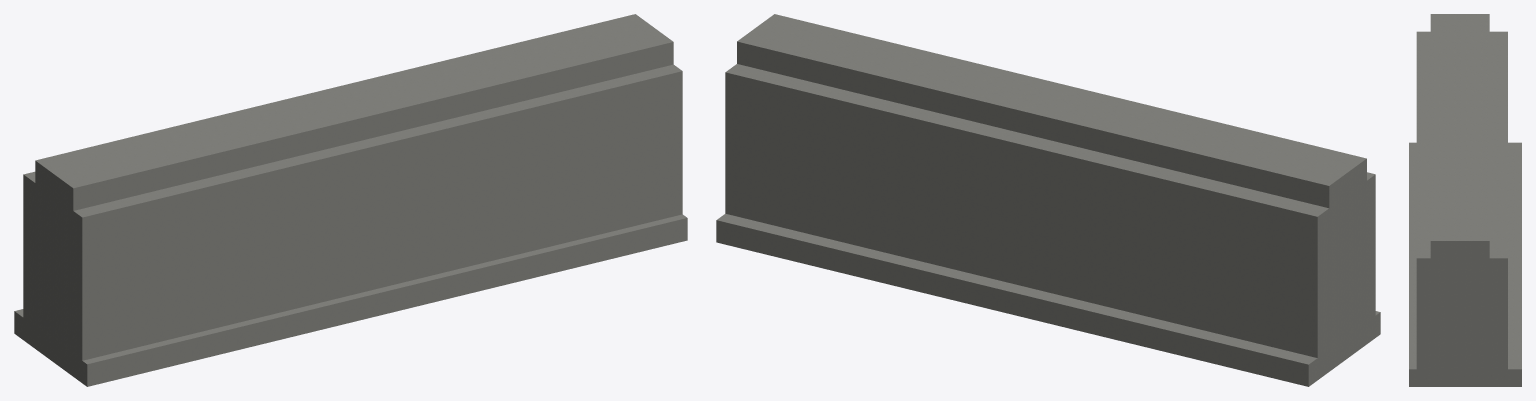
The picture shows the model from 3 angles, left to right: view 1: azimuth 30°, elevation 25°; view 2: azimuth 150°, elevation 25°; view 3: azimuth 270°, elevation 25°; orthographic projection. The views are drawn at different scales.
Visible parts, largest first — view 1: dam_gravity_v1; view 2: dam_gravity_v1; view 3: dam_gravity_v1.
Boxes of the visible parts, x1,y1,x2,y2 form: dam_gravity_v1: (14, 14, 687, 386); dam_gravity_v1: (716, 14, 1380, 386); dam_gravity_v1: (1409, 14, 1521, 386).
Size of the model in its own units: 40 by 12 by 8.4.
Materials: 1 (1 with a texture image).
